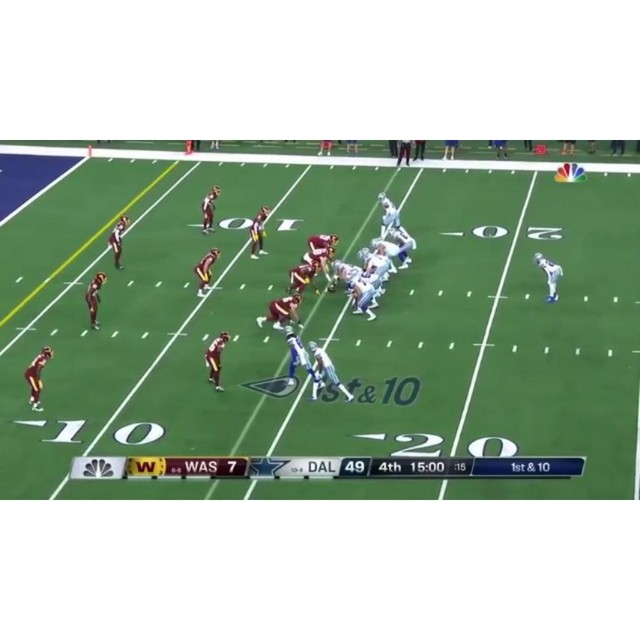american-football-player: (308, 341, 355, 402), (283, 326, 319, 385), (24, 346, 53, 412), (257, 293, 304, 331), (345, 273, 379, 322), (532, 252, 564, 303), (205, 331, 231, 392), (387, 223, 417, 269), (194, 247, 220, 298), (85, 272, 107, 331), (287, 261, 322, 296), (377, 191, 402, 239), (358, 247, 391, 283), (108, 216, 130, 269), (371, 237, 403, 273), (328, 259, 363, 291), (250, 205, 270, 260), (200, 184, 221, 235), (306, 234, 339, 257)
